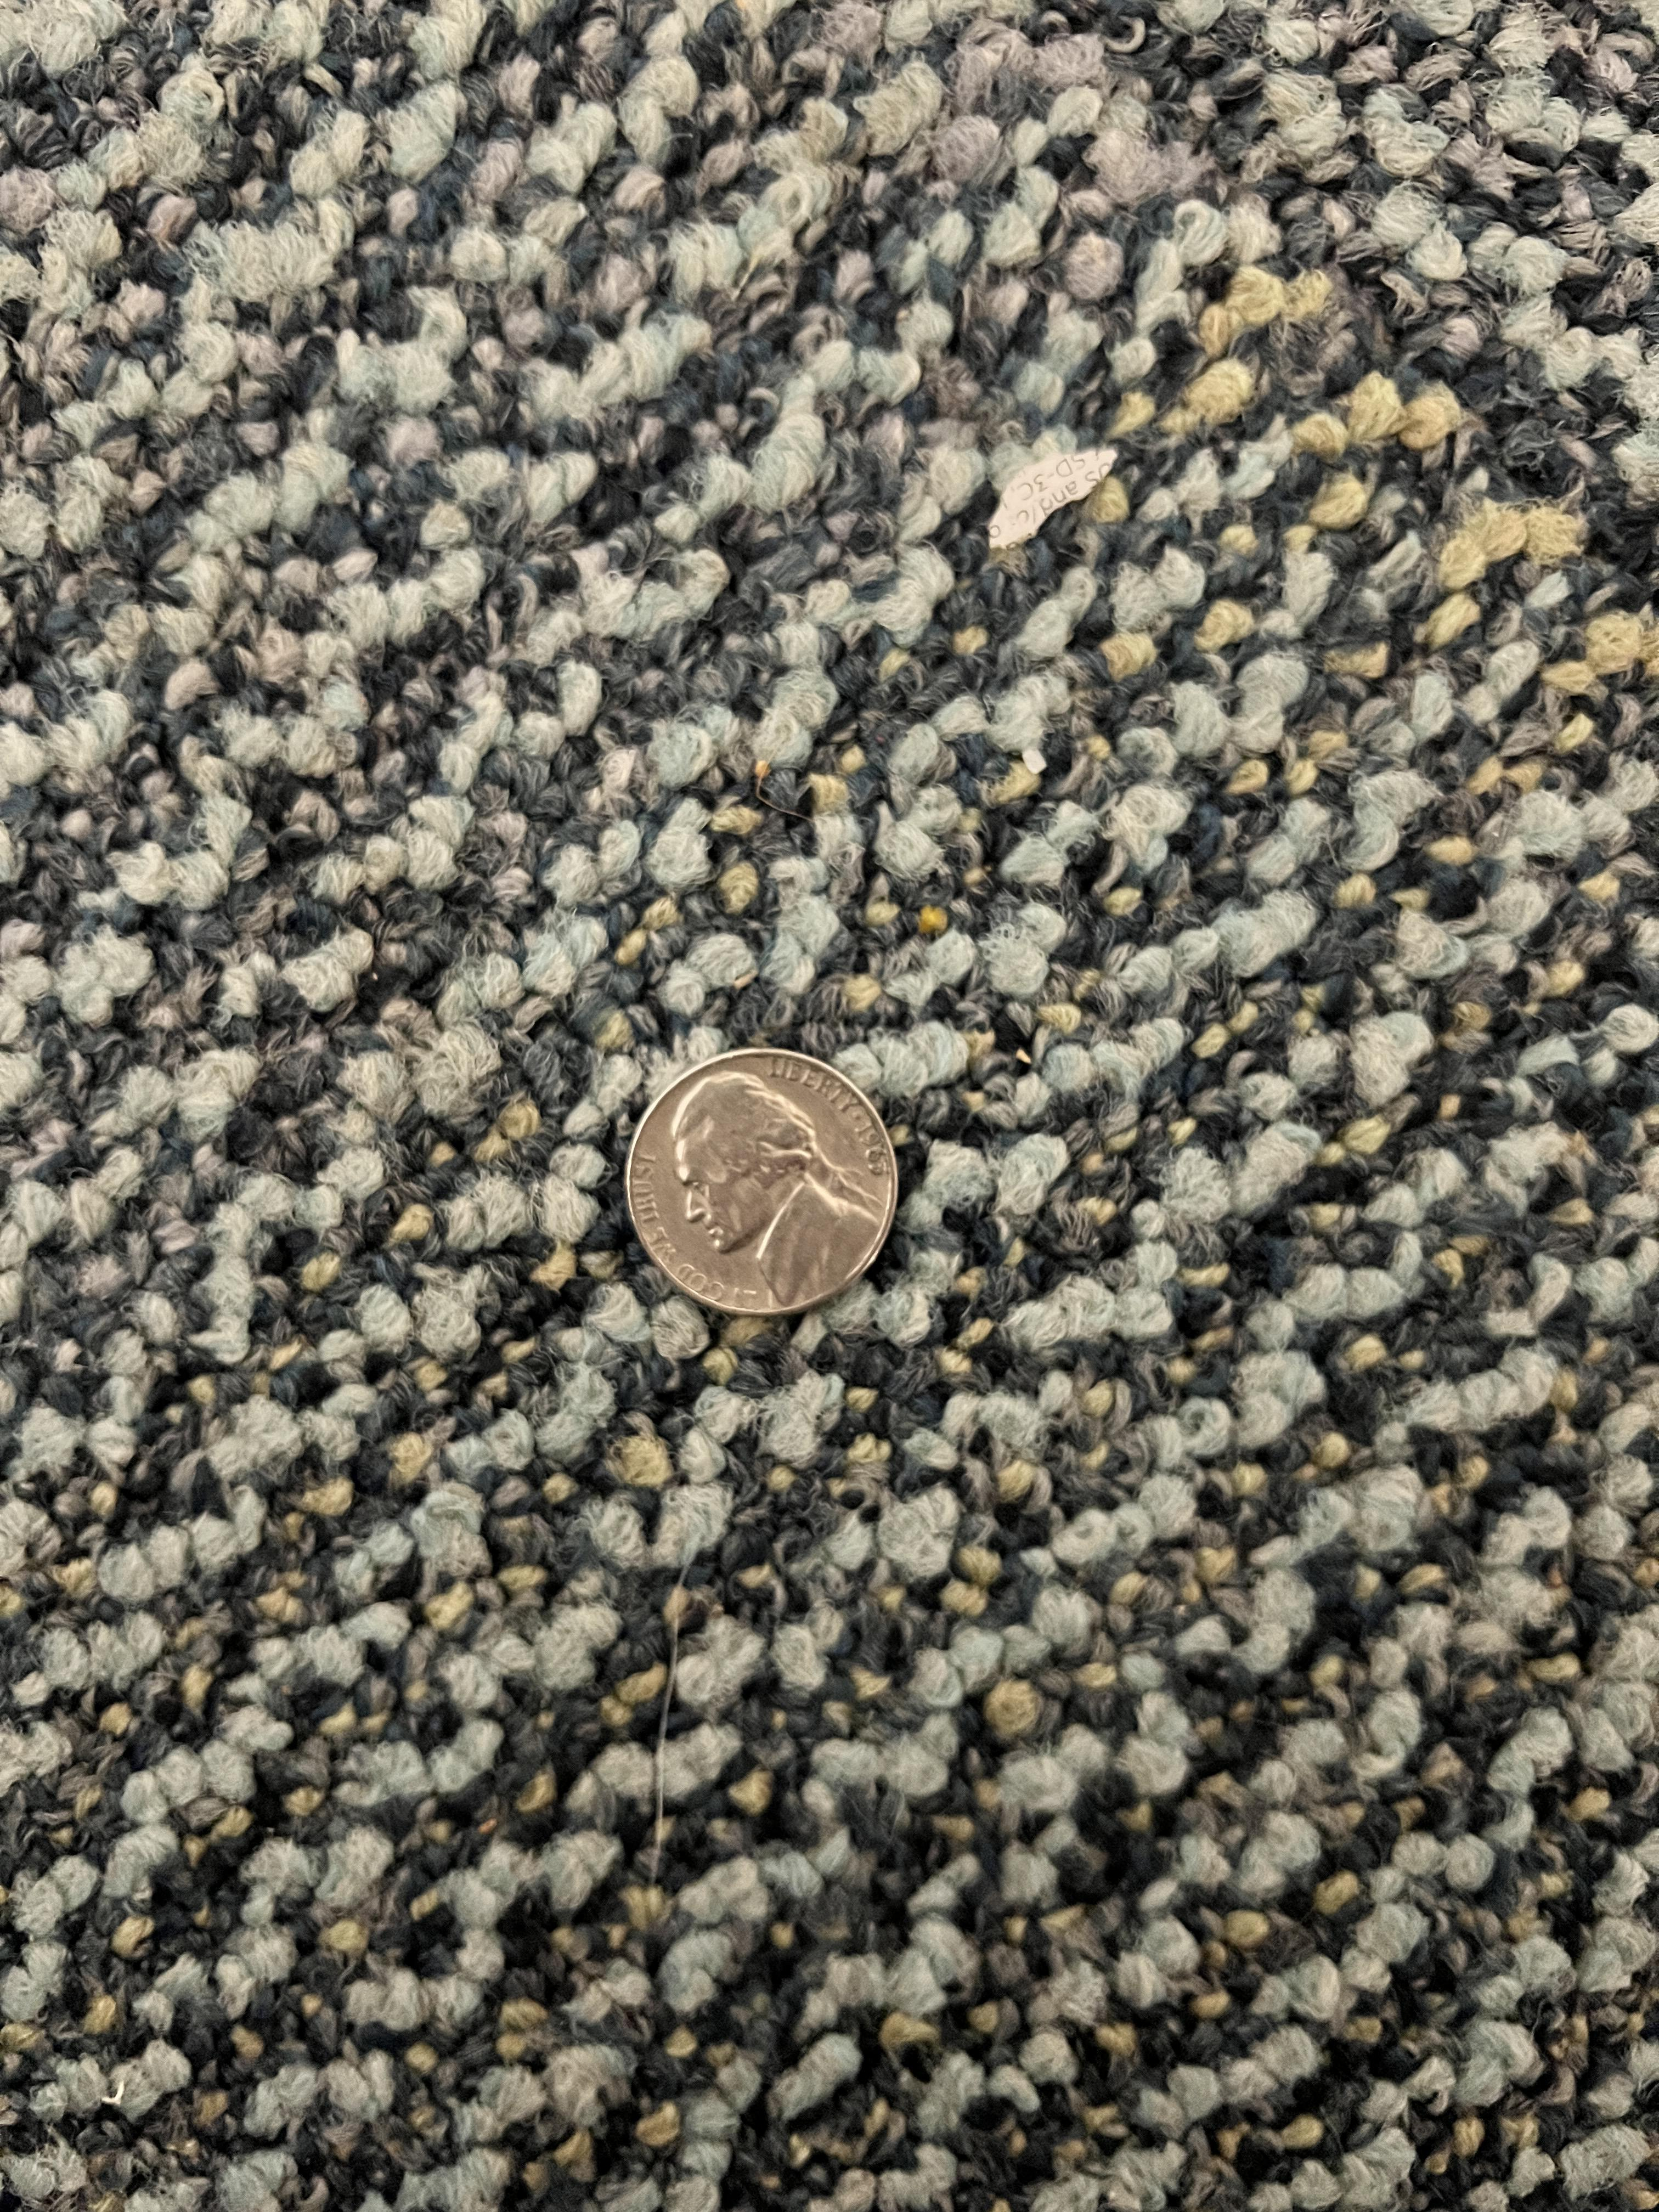Nickel: (615, 1050, 897, 1331)
